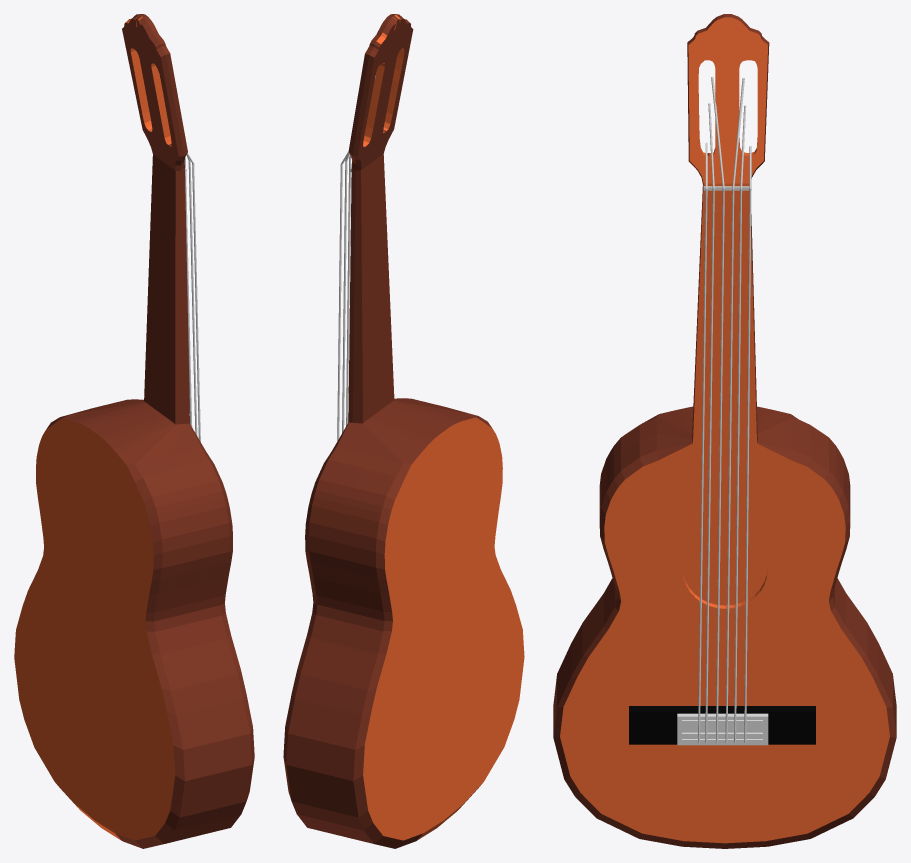
Rendered from gitar.fbx.
The picture shows the model from 3 angles, left to right: view 1: azimuth 30°, elevation 25°; view 2: azimuth 150°, elevation 25°; view 3: azimuth 270°, elevation 25°; orthographic projection. The views are drawn at different scales.
Visible parts, largest first — view 1: Cube, Cylinder.005; view 2: Cube, Cylinder.005; view 3: Cube, Cylinder.005, Cube.001, Cube.002.
Part boxes in pixels (x1,y1,x2,y2): Cube: [14, 14, 254, 848]; Cylinder.005: [159, 74, 200, 441]; Cube: [283, 14, 524, 848]; Cylinder.005: [337, 76, 375, 440]; Cube: [553, 14, 896, 848]; Cylinder.005: [698, 76, 751, 742]; Cube.001: [629, 706, 815, 744]; Cube.002: [677, 713, 768, 745].
Size of the model in its own units: 126 by 970 by 367.
